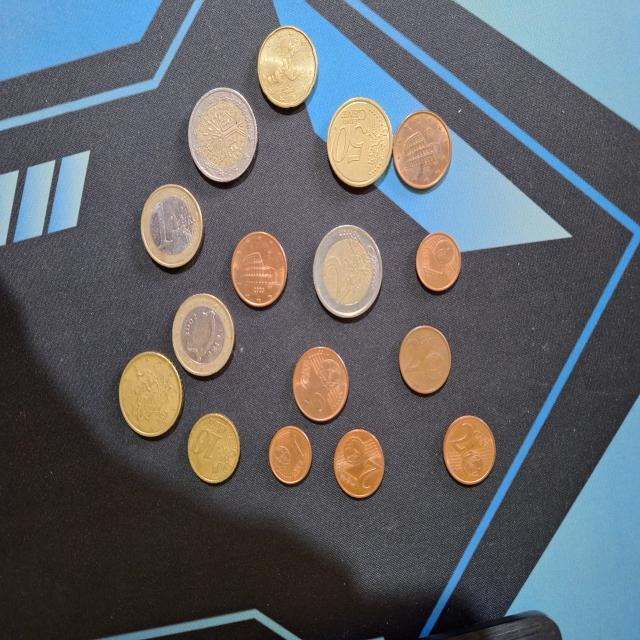10c: (187, 410, 242, 486)
1c: (415, 231, 462, 295), (268, 422, 314, 487)
1e: (138, 182, 204, 273), (171, 291, 236, 378)
20c: (257, 26, 319, 114)
2c: (442, 412, 499, 487), (397, 322, 454, 397), (332, 428, 385, 500)
2e: (187, 87, 260, 187), (312, 223, 384, 320)
50c: (326, 96, 394, 193), (117, 350, 184, 438)
5c: (392, 108, 453, 192), (229, 230, 290, 309), (290, 346, 351, 422)
